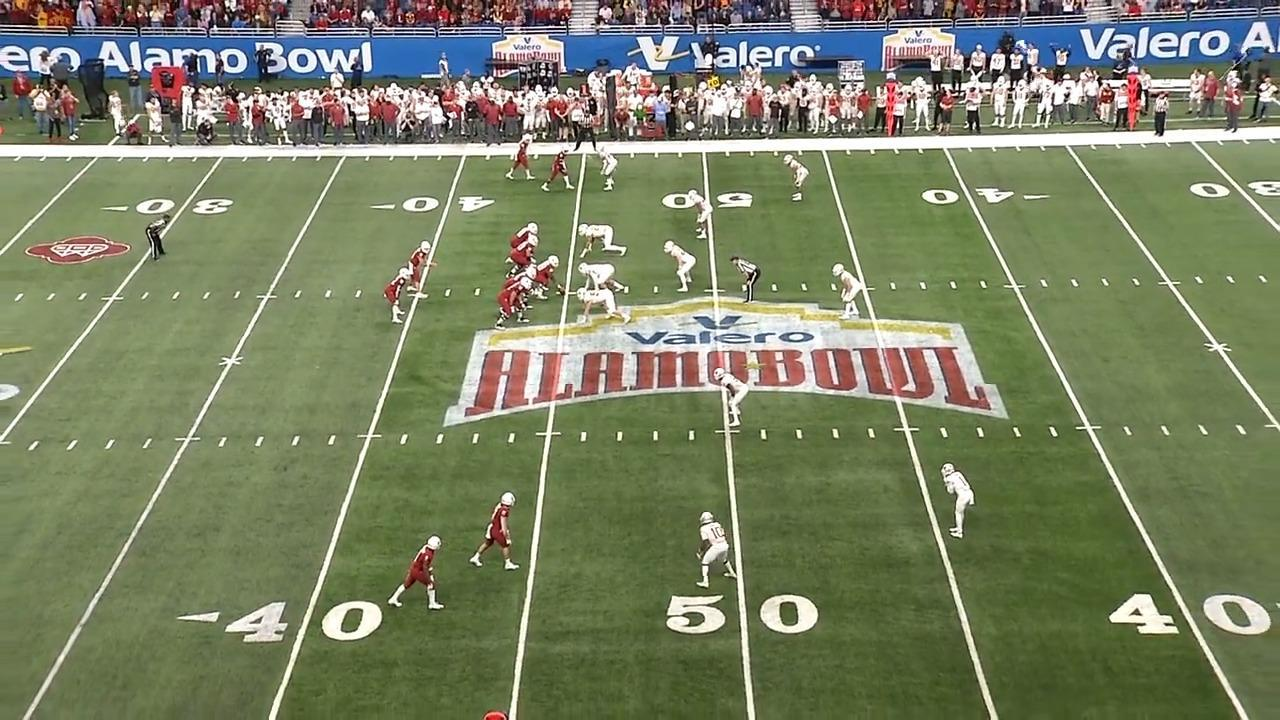defense: (692, 509, 736, 592), (937, 461, 977, 543), (572, 286, 631, 331), (712, 367, 747, 431), (831, 262, 865, 325), (665, 238, 701, 295), (576, 222, 629, 259), (577, 259, 629, 292), (781, 151, 812, 205), (690, 188, 716, 242), (598, 145, 621, 192)
oline: (493, 277, 533, 333), (498, 265, 538, 313), (503, 220, 544, 265), (528, 253, 565, 301), (507, 236, 538, 277)
qb: (408, 236, 437, 298)
ref: (728, 255, 762, 308), (567, 98, 598, 155), (144, 210, 170, 265), (1149, 94, 1168, 141)
skill: (390, 530, 451, 613), (465, 493, 518, 573), (504, 128, 537, 183), (381, 265, 410, 325), (541, 151, 577, 195)
